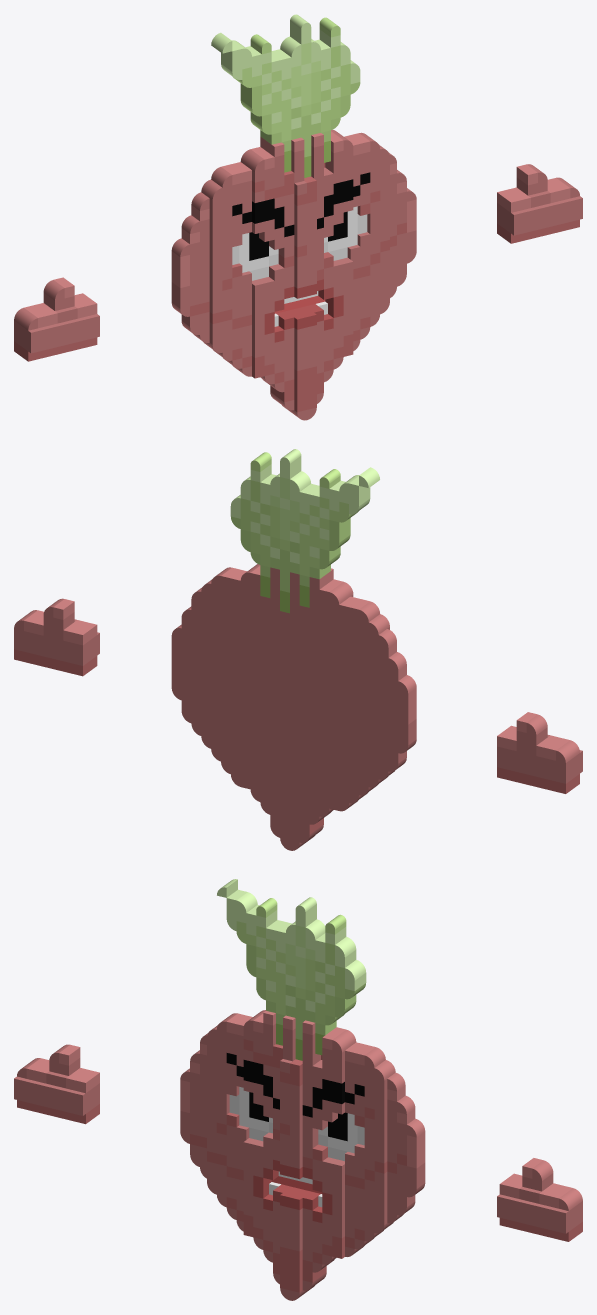
Rendered from radishkenshappe.fbx.
The picture shows the model from 3 angles, top to bottom: view 1: azimuth 30°, elevation 25°; view 2: azimuth 150°, elevation 25°; view 3: azimuth 330°, elevation 25°; orthographic projection.
Visible parts, largest first — view 1: generated; view 2: generated; view 3: generated.
Part boxes in pixels (left/top/right/bottom): generated: left=14, top=14, right=582, bottom=420; generated: left=14, top=449, right=582, bottom=850; generated: left=14, top=879, right=582, bottom=1300.
Bounding box in the file's own units: 560 × 380 × 30.
